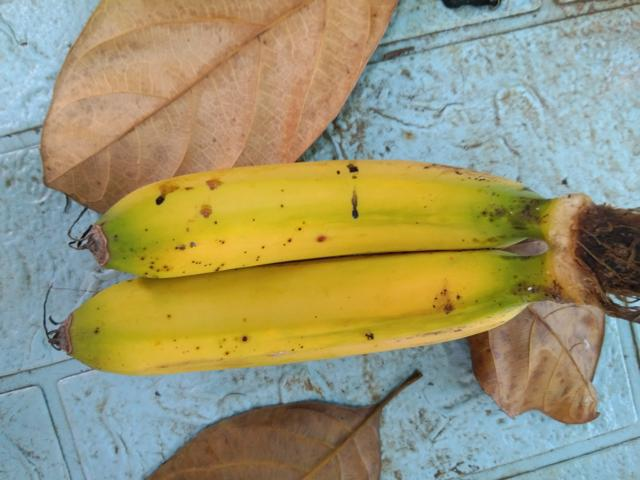ripe: (78, 121, 550, 273), (56, 257, 537, 379)
